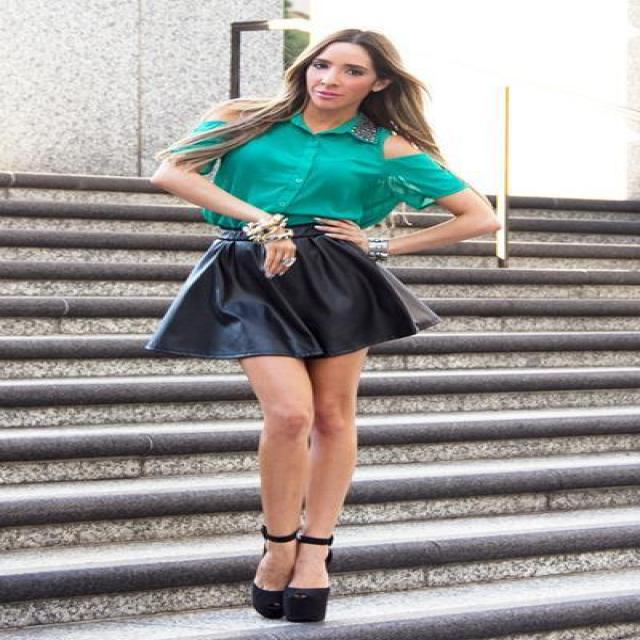jacket: (173, 120, 245, 152)
shirt: (213, 115, 464, 228)
shoe: (253, 525, 331, 622)
skirt: (134, 220, 422, 370)
